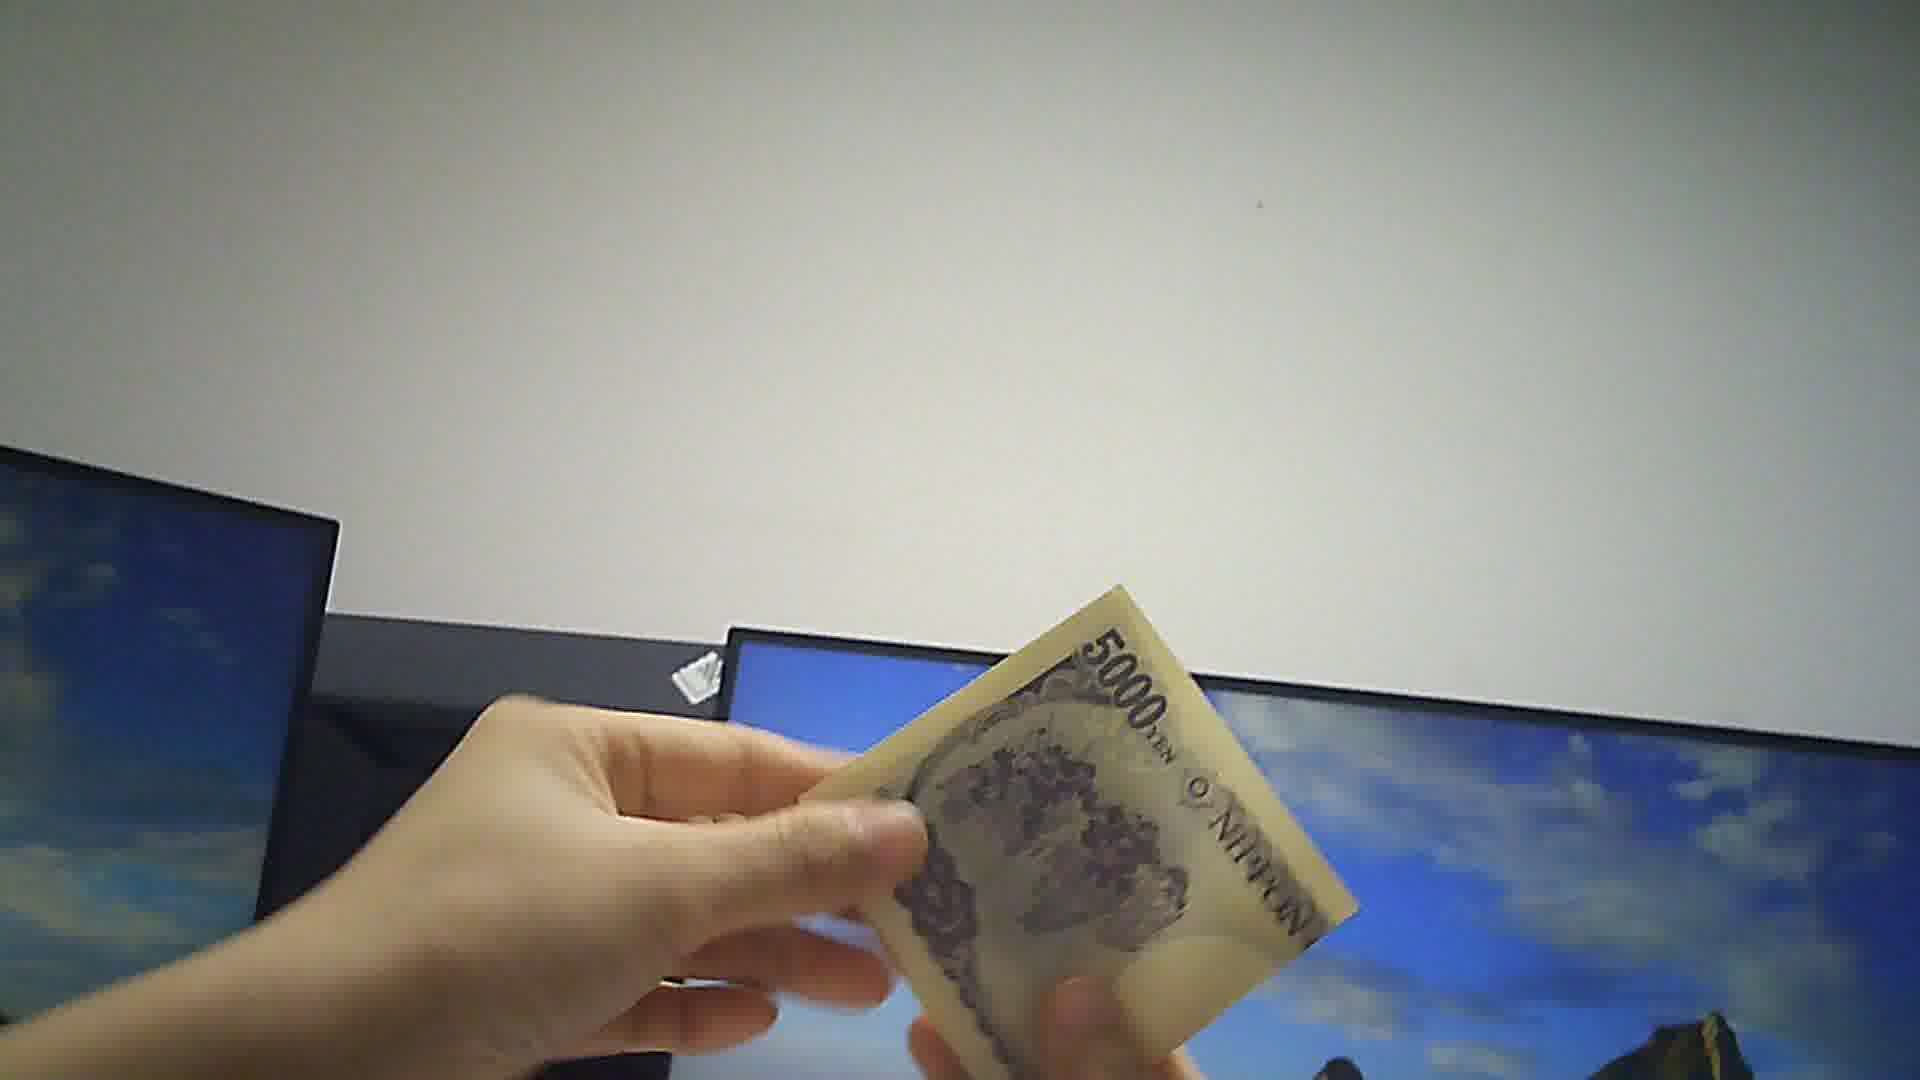5,000 Yen: (793, 570, 1369, 1076)
